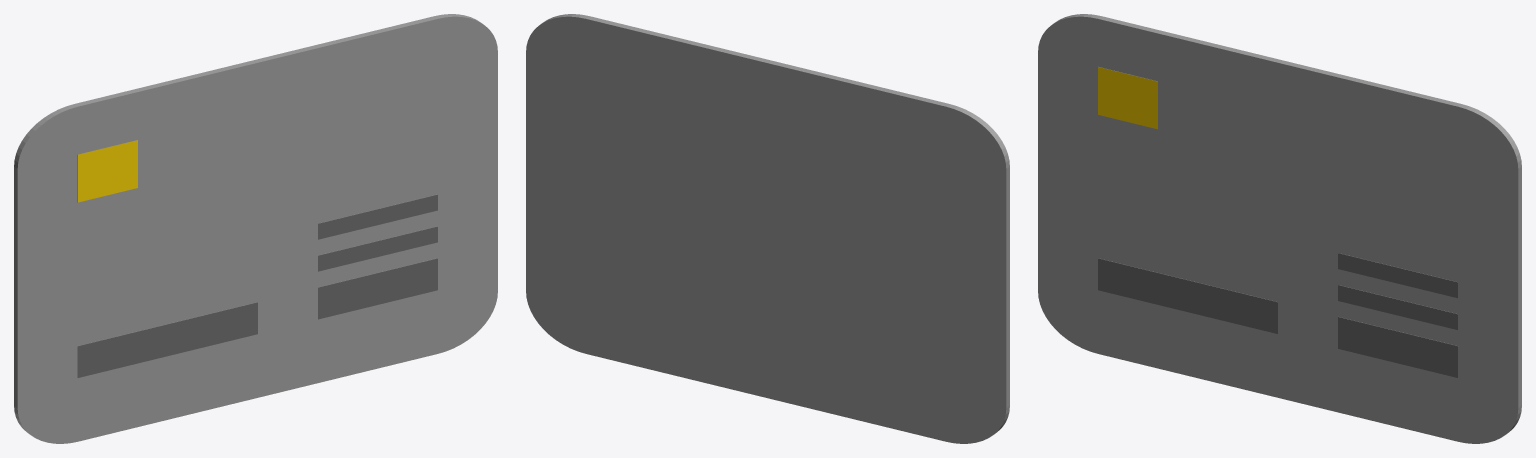
File: credit_card.fbx
3 views of the same model, side by side, from view 1: azimuth 30°, elevation 25°; view 2: azimuth 150°, elevation 25°; view 3: azimuth 330°, elevation 25° (orthographic).
Parts seen in each view (by area): view 1: Cube.001; view 2: Cube.001; view 3: Cube.001.
Part boxes in pixels (bbox=[...]): Cube.001: bbox=[14, 14, 497, 443]; Cube.001: bbox=[526, 14, 1009, 443]; Cube.001: bbox=[1038, 14, 1521, 443].
Bounding box in the file's own units: 150 × 100 × 2.1.
